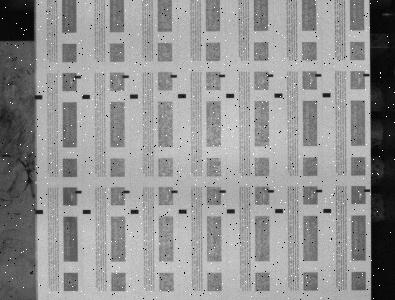backgroundclutter: (30, 271, 33, 274)
qblock: (323, 208, 332, 213), (179, 209, 187, 214), (131, 209, 139, 214), (275, 93, 283, 98), (226, 93, 234, 98), (130, 94, 138, 99), (82, 94, 90, 99), (35, 209, 43, 214), (83, 210, 91, 214), (275, 209, 283, 213), (227, 209, 235, 213), (178, 94, 186, 98), (323, 93, 331, 97), (34, 95, 42, 99)
smallqblock: (75, 75, 81, 79), (171, 74, 177, 78), (268, 189, 274, 193), (219, 74, 226, 77), (123, 190, 130, 193), (315, 74, 322, 77), (267, 74, 274, 77), (171, 190, 178, 193), (316, 189, 323, 192), (75, 190, 82, 193), (364, 189, 371, 192), (220, 190, 226, 193), (123, 75, 129, 78), (364, 73, 370, 76)
